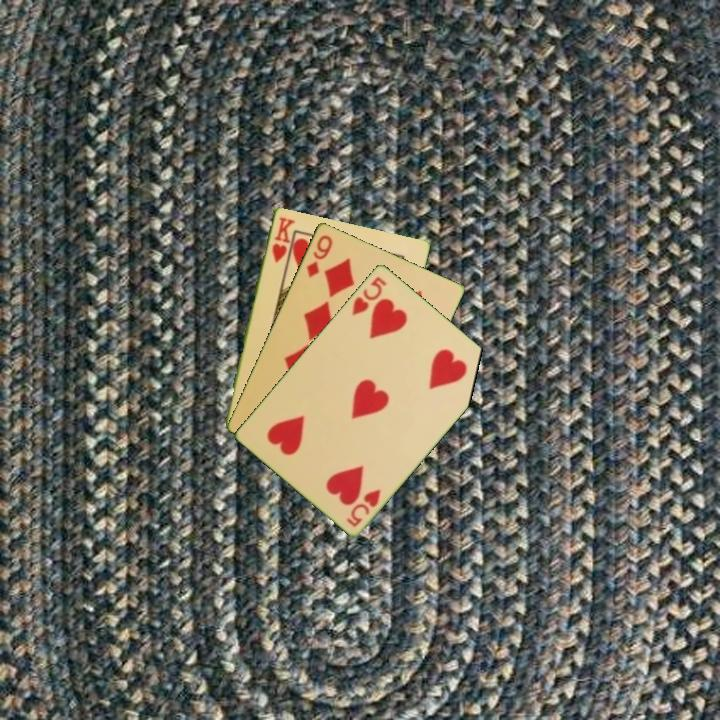5h: (348, 272, 390, 318), (342, 485, 383, 529)
9d: (303, 231, 336, 280)
Kh: (268, 213, 297, 265)
